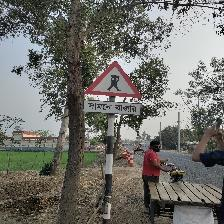Market-in-front: (83, 61, 143, 116)
